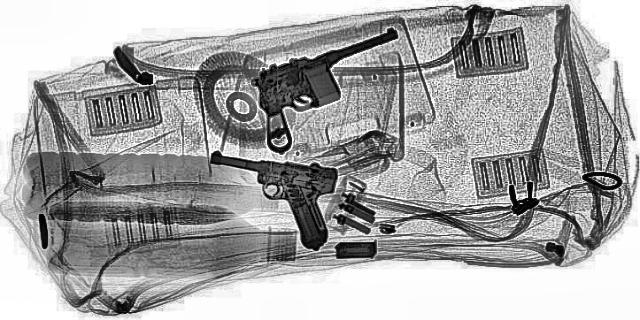Gun: (188, 28, 487, 154), (208, 146, 350, 252)
